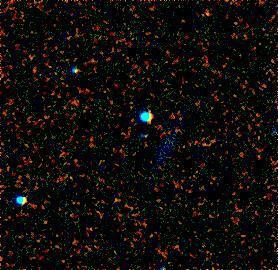star: (196, 0, 226, 29)
